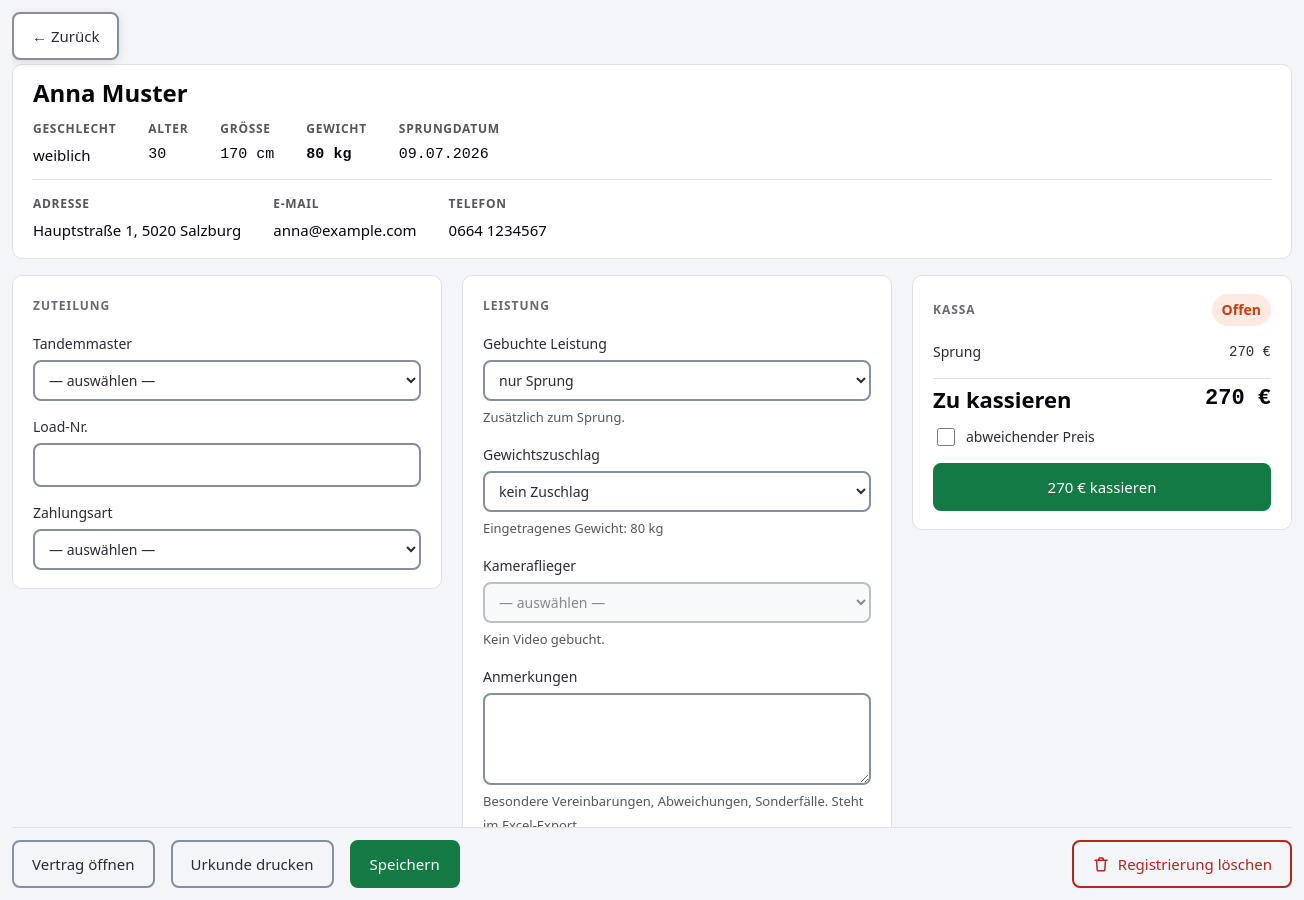
Test case: Detail › names the open amount as the reason the till is asked for
Check: the text "Zu kassieren" is shown, box [933,387,1071,411]
Select "Gutschein" in the dropdown labelled "Zahlungsart" at (227, 550), box [33,529,421,570]
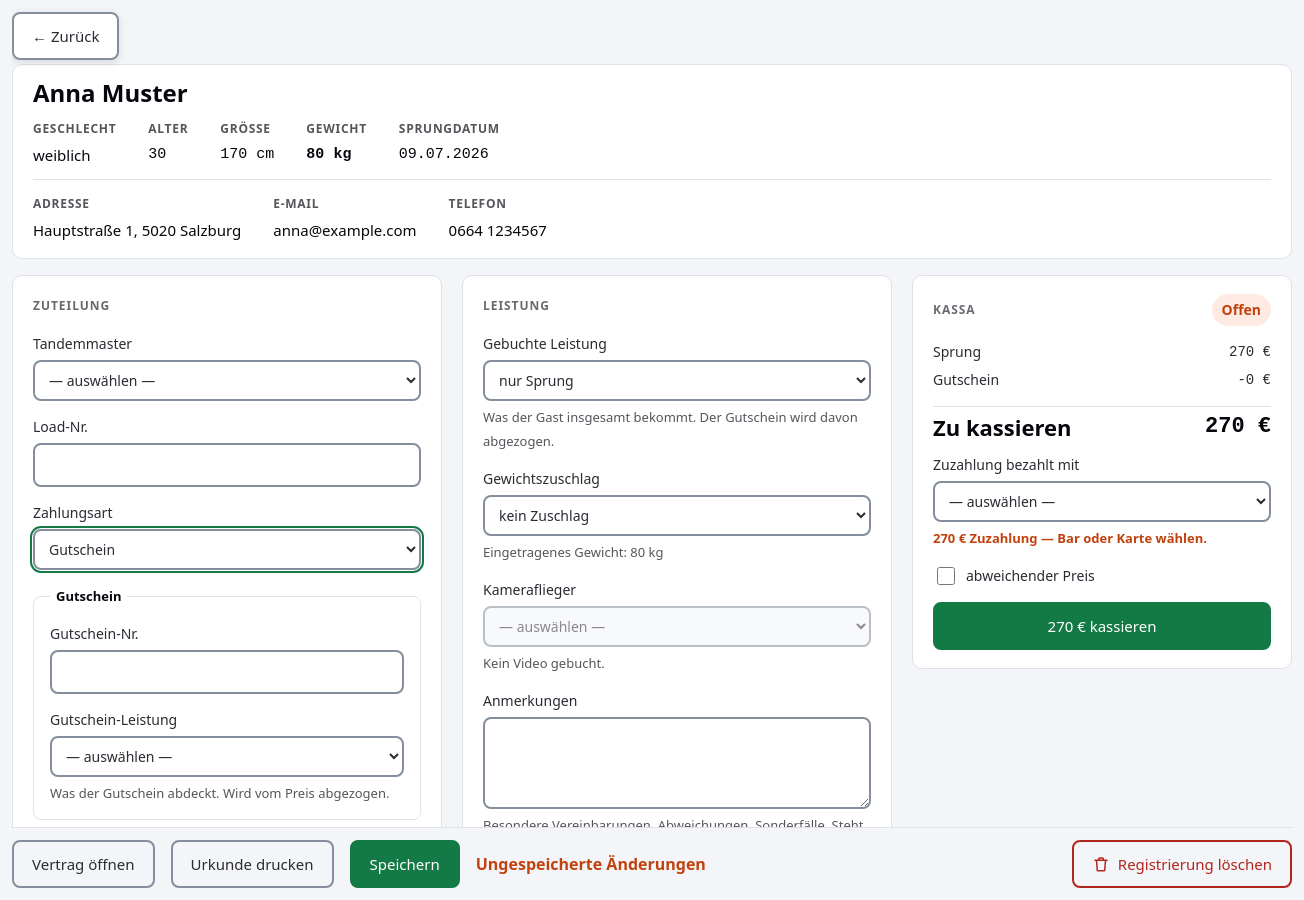
Select "Sprung+Video" in the dropdown labelled "Gutschein-Leistung" at (227, 756), box [50,736,404,777]
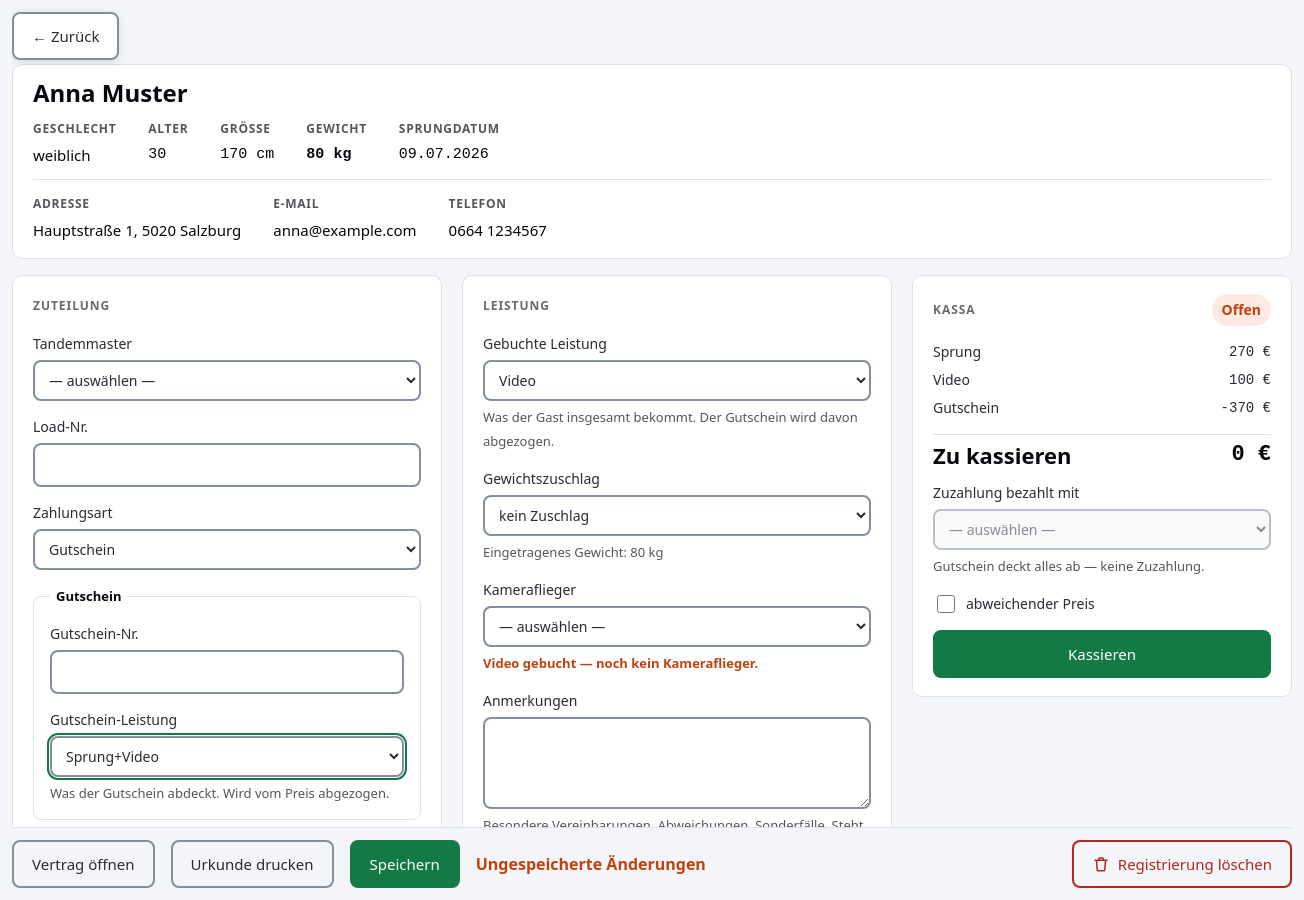
Select "Video + Foto" in the dropdown labelled "Gebuchte Leistung" at (677, 380), box [483,360,871,401]
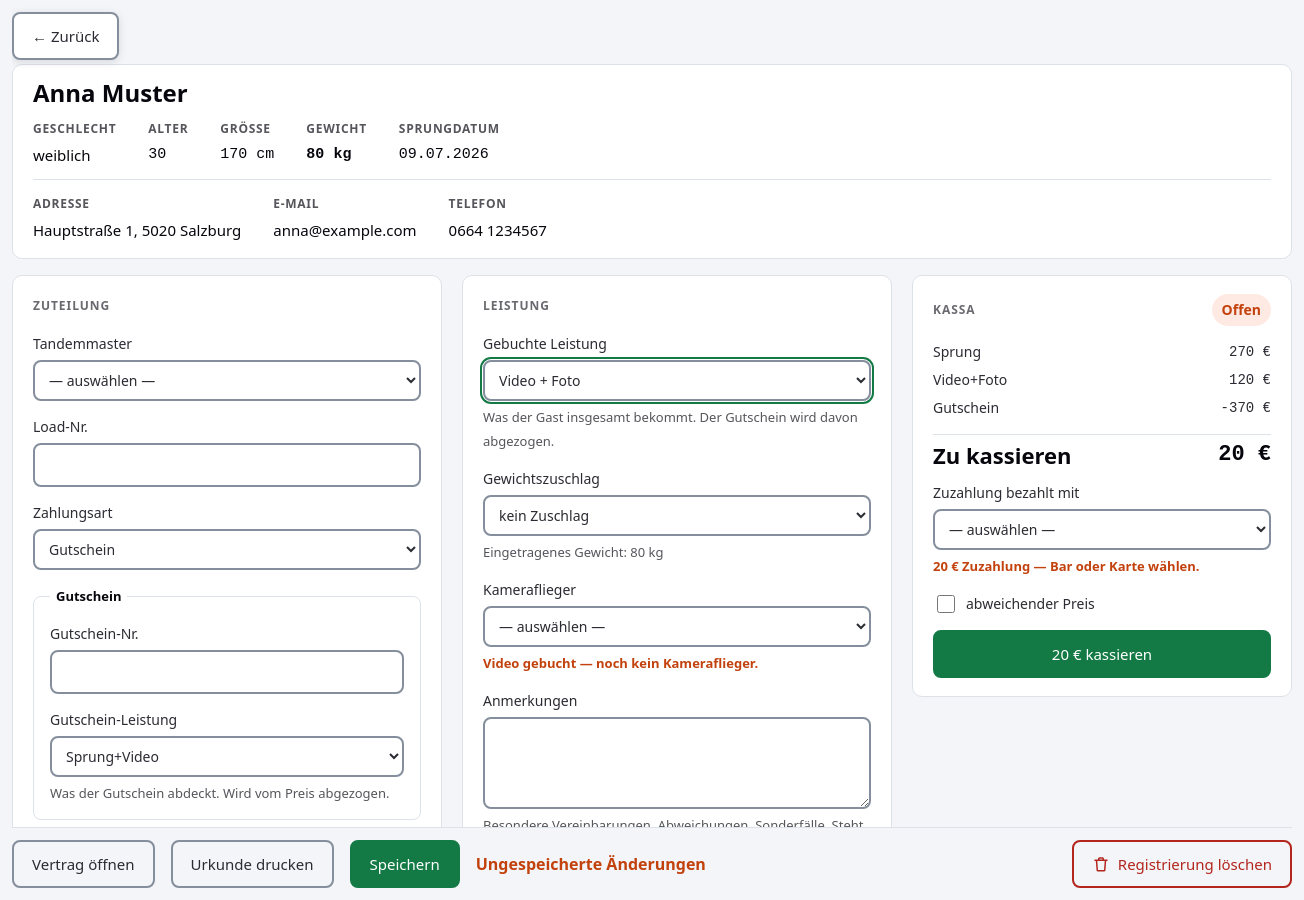
Check: the text "20 € Zuzahlung — Bar oder Karte wählen." is shown, box [933,557,1200,575]
Check: the dropdown labelled "Zuzahlung bezahlt mit" is enabled, box [933,509,1271,550]
